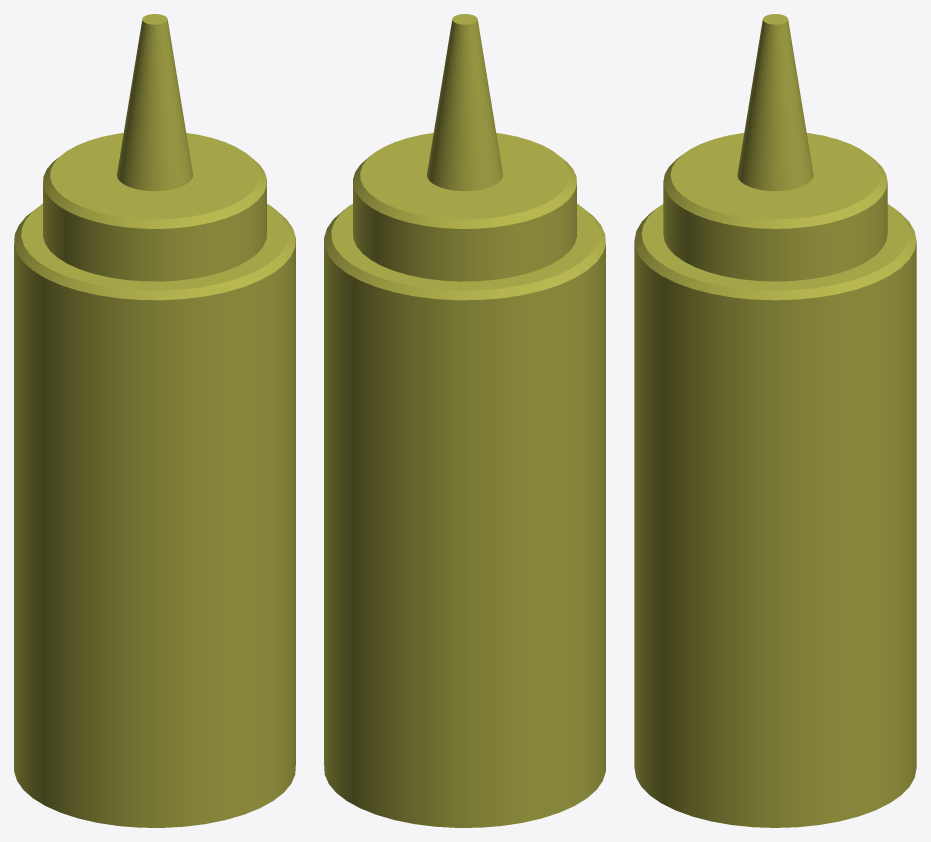
File: SauceBottle_Yellow.fbx
3 renders of one model, left to right at view 1: azimuth 30°, elevation 25°; view 2: azimuth 150°, elevation 25°; view 3: azimuth 270°, elevation 25°, orthographic.
Parts seen in each view (by area): view 1: pCylinder1; view 2: pCylinder1; view 3: pCylinder1.
Part boxes in pixels (left/top/right/bottom): pCylinder1: left=14, top=14, right=295, bottom=827; pCylinder1: left=324, top=14, right=605, bottom=827; pCylinder1: left=634, top=14, right=916, bottom=827.
Bounding box in the file's own units: 2 × 5.86 × 2.
